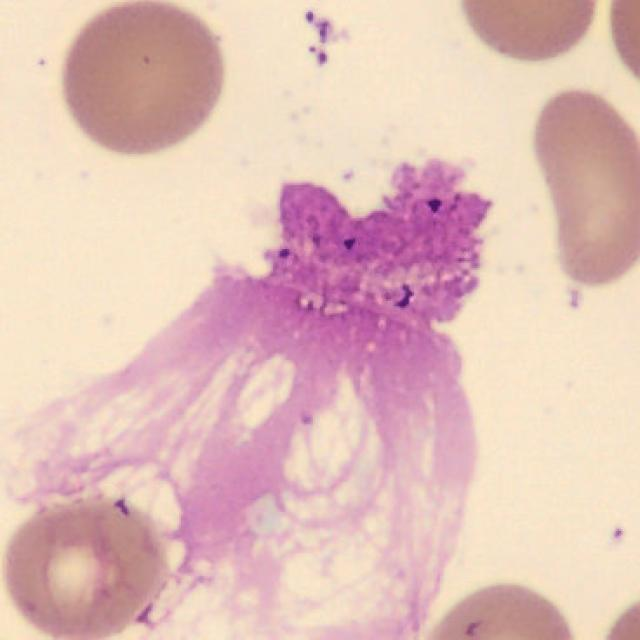Artefato: (0, 159, 492, 640)
